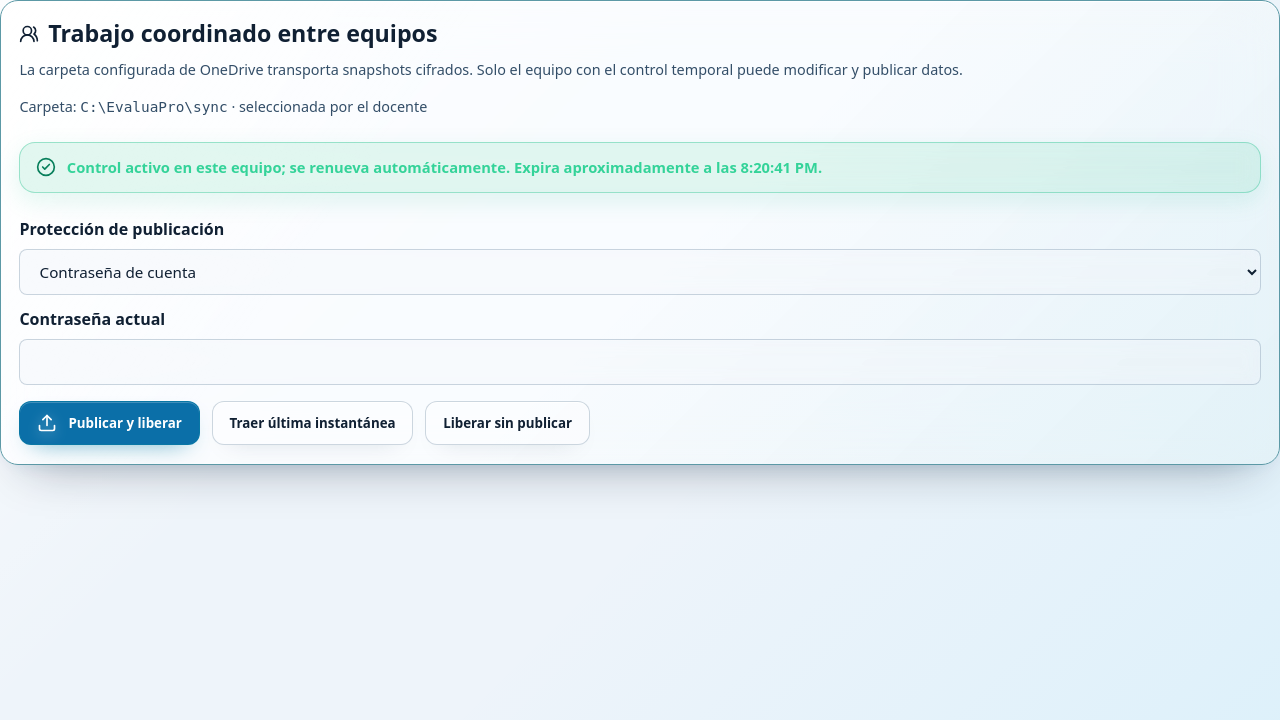
Scenario: SeccionLeaseSincronizacion: errores y toast contextual › expone como alerta la credencial faltante y no inicia la publicación
Click the button "Publicar y liberar".
click(110, 423)  # box 19,401 -> 200,445
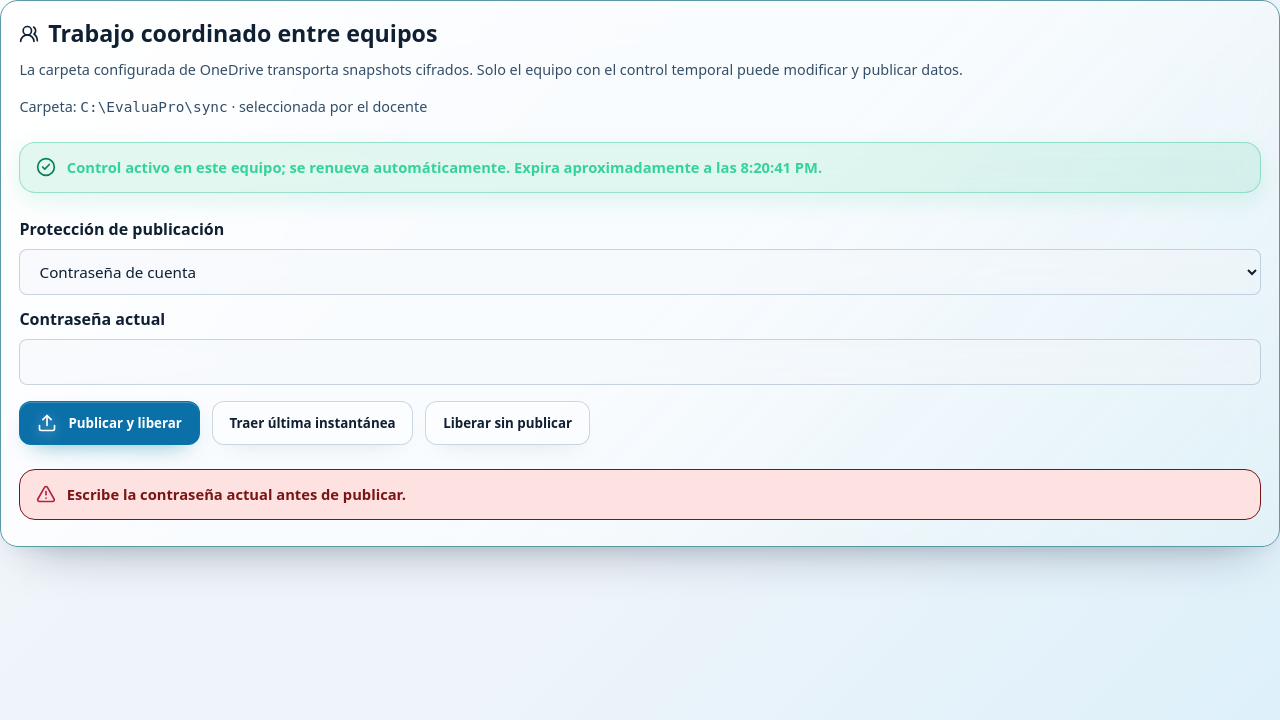
Check: the message "Escribe la contraseña actual antes de publicar." is shown, box 19,469 -> 1261,520
